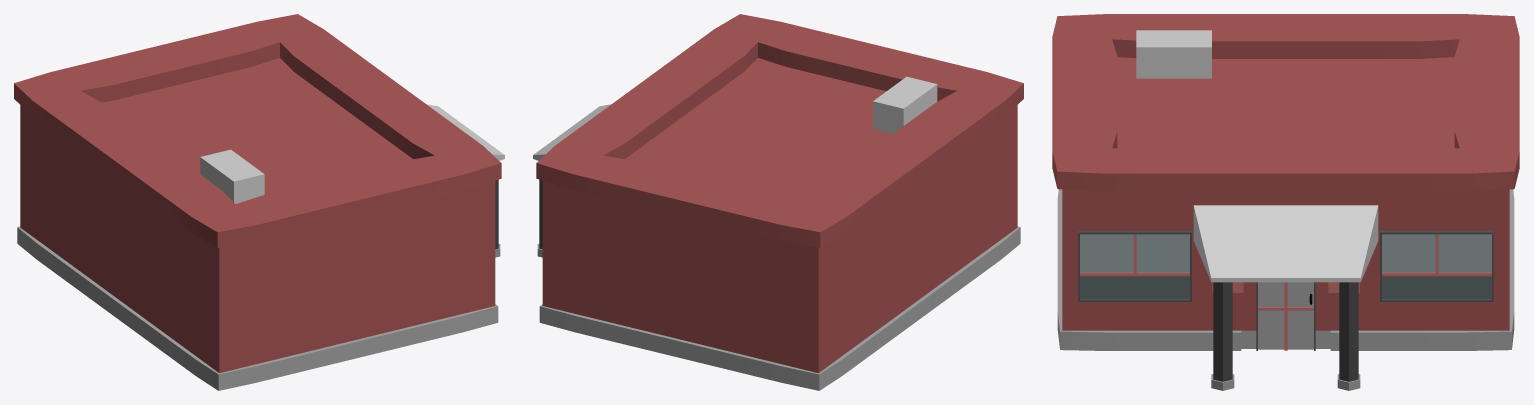
Rendered from Building_9.fbx.
3 views of the same model, side by side, from view 1: azimuth 30°, elevation 25°; view 2: azimuth 150°, elevation 25°; view 3: azimuth 270°, elevation 25° (orthographic). The views are drawn at different scales.
Parts seen in each view (by area): view 1: polySurface59; view 2: polySurface59; view 3: polySurface59.
Boxes of the visible parts, bbox=[...] form: polySurface59: bbox=[14, 14, 504, 390]; polySurface59: bbox=[533, 14, 1023, 390]; polySurface59: bbox=[1052, 14, 1519, 390].
Bounding box in the file's own units: 13.05 × 5.97 × 13.07.
